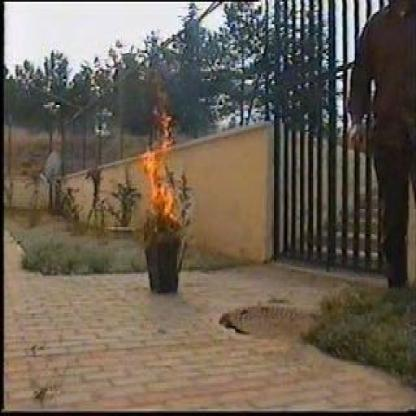foggia-v2-map80-epoch100 - v1 4323: (141, 122, 176, 232)
